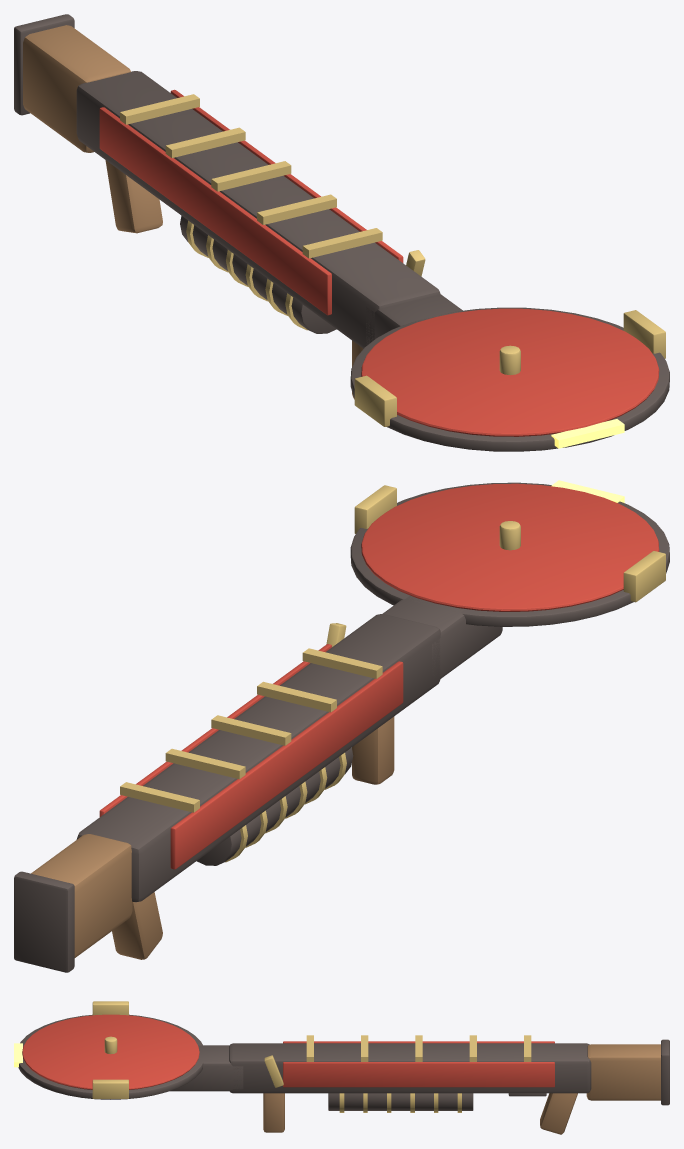
File: shuriken_launcher.glb
3 renders of one model, top to bottom at view 1: azimuth 30°, elevation 25°; view 2: azimuth 150°, elevation 25°; view 3: azimuth 270°, elevation 25°, orthographic. The views are drawn at different scales.
Visible parts, largest first — view 1: ShurikenLauncher; view 2: ShurikenLauncher; view 3: ShurikenLauncher.
Boxes of the visible parts, left/top/right/bottom form: ShurikenLauncher: left=14, top=14, right=669, bottom=451; ShurikenLauncher: left=14, top=480, right=669, bottom=972; ShurikenLauncher: left=14, top=1001, right=669, bottom=1134.
Bounding box in the file's own units: 2.14 × 1.13 × 7.24.
